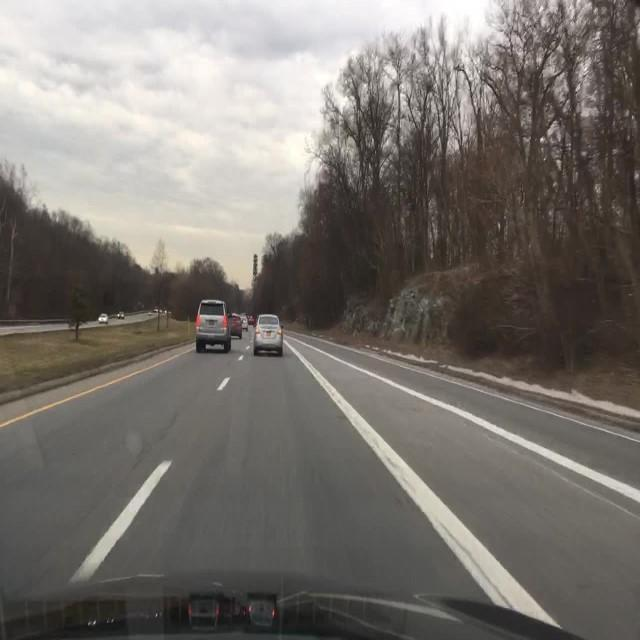normal: (196, 301, 234, 355), (253, 315, 286, 357)
